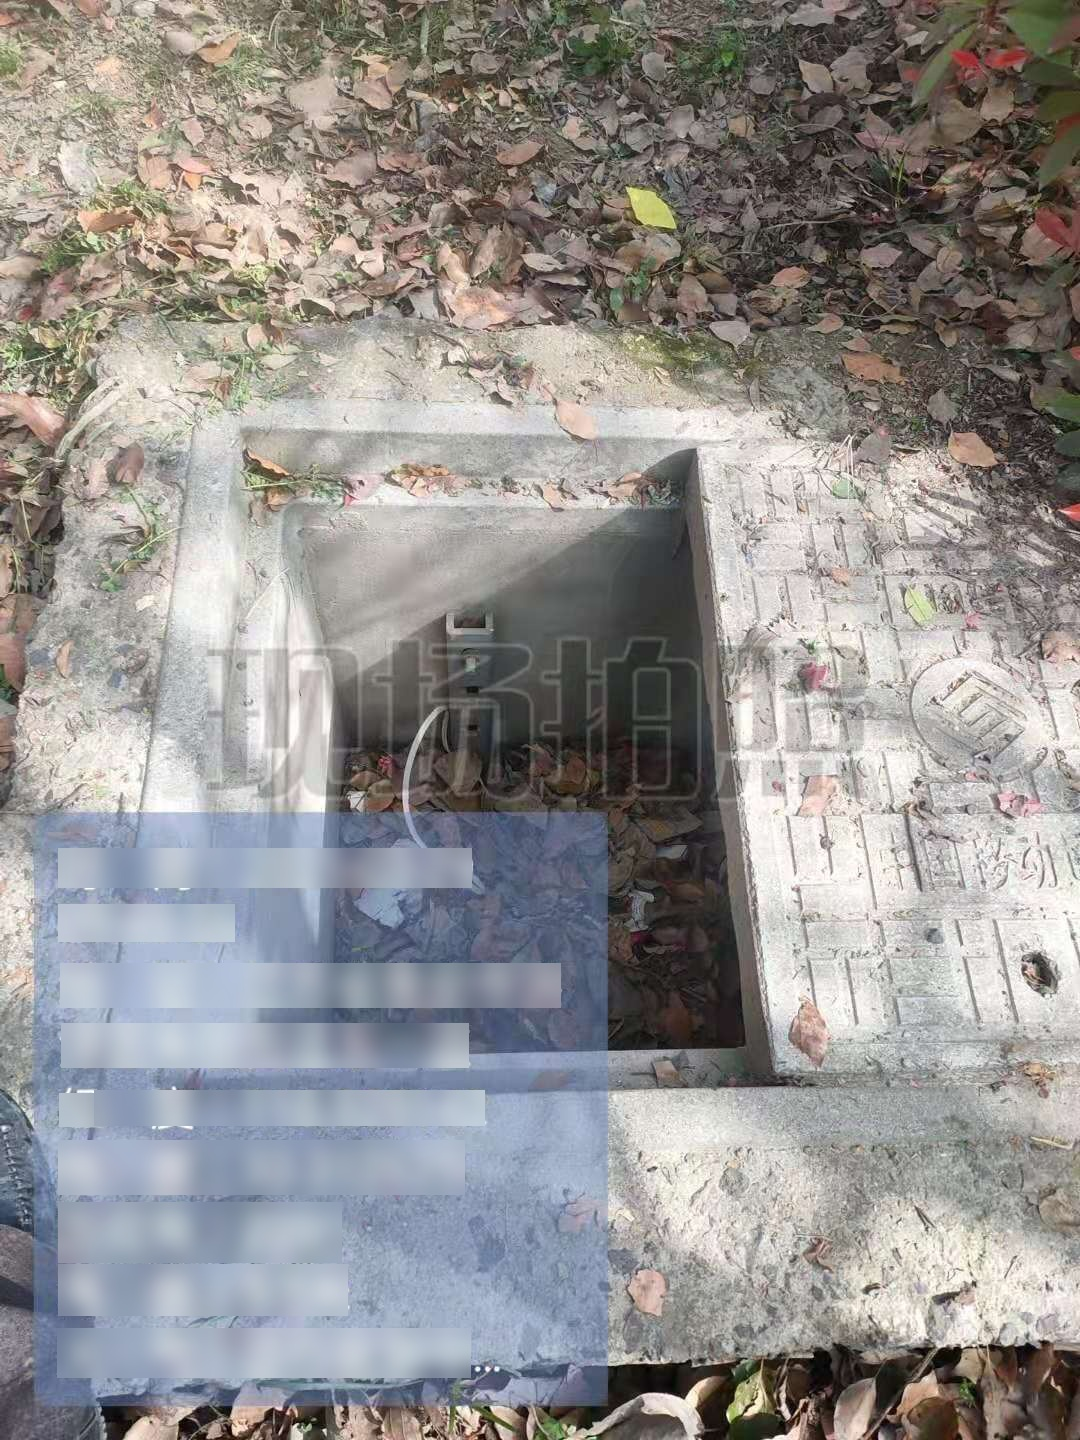well: (67, 412, 1078, 1107)
